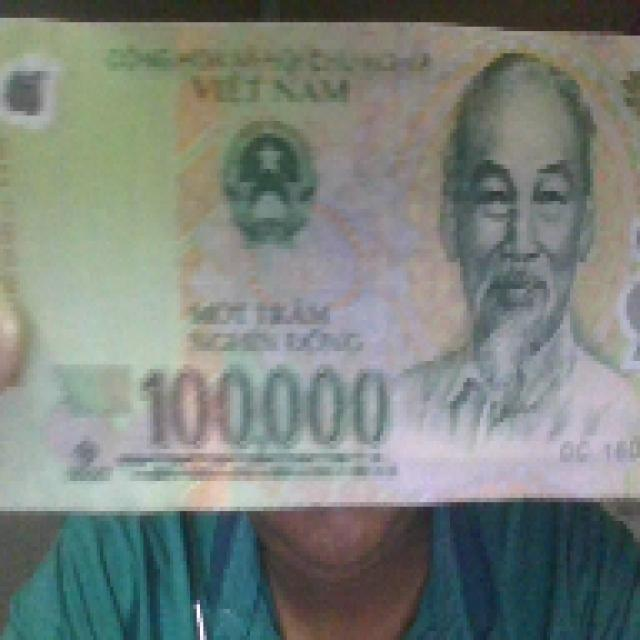100 000 VND: (0, 13, 637, 507)
